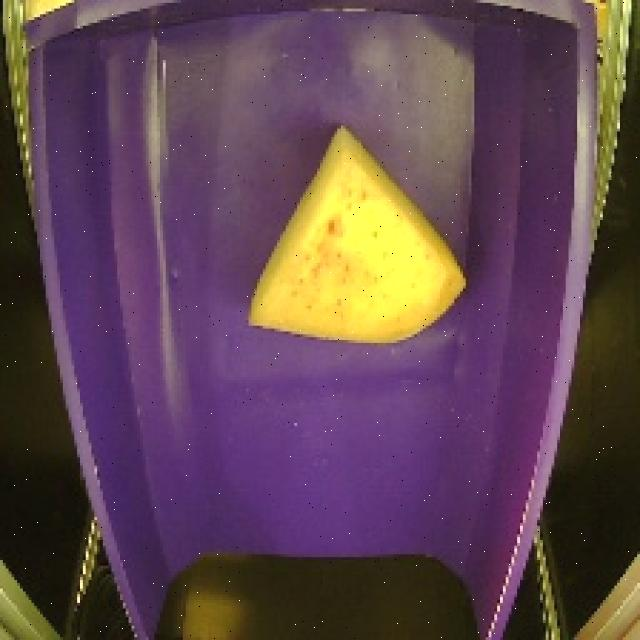potato: (241, 121, 472, 352)
